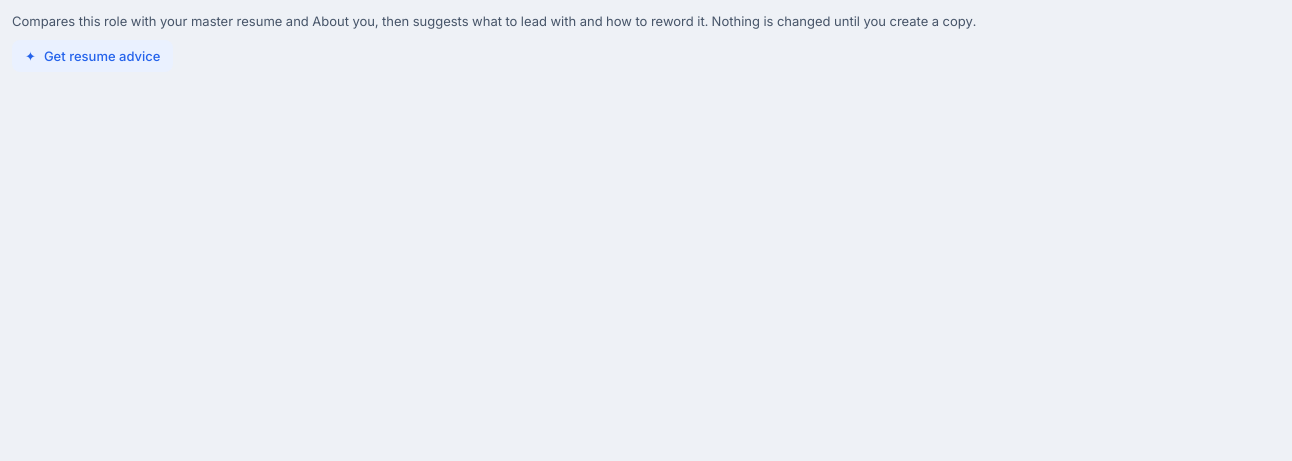
it: JobAdvice › offers a plain copy when nothing is ticked
This screenshot has width=1292, height=461.
Click the button "✦ Get resume advice".
click(93, 56)  # box [12,40,174,72]
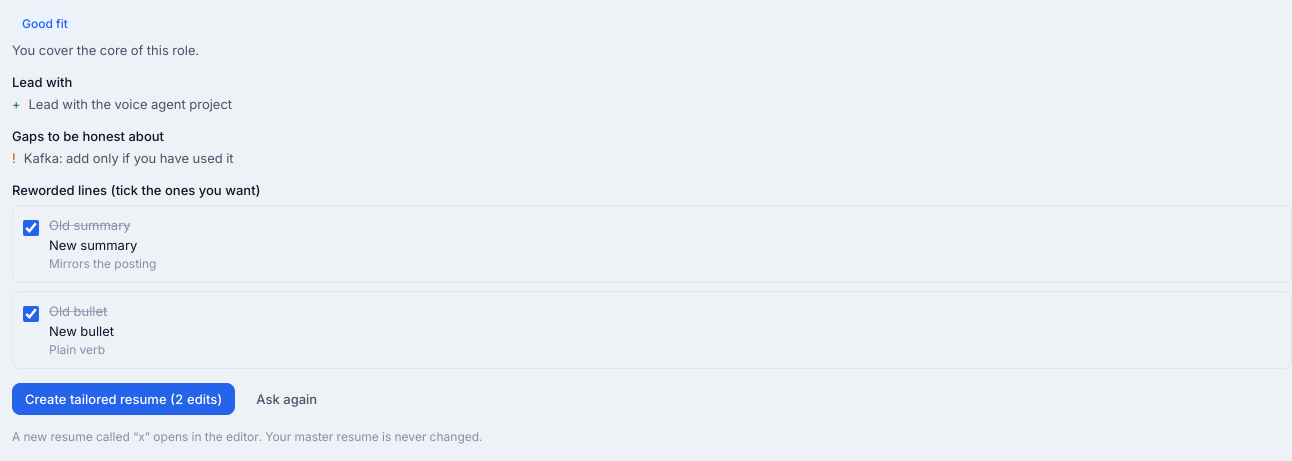
Click the checkbox labelled "Old summary New summary Mirrors the posting".
click(31, 228)  # box [23,220,39,236]
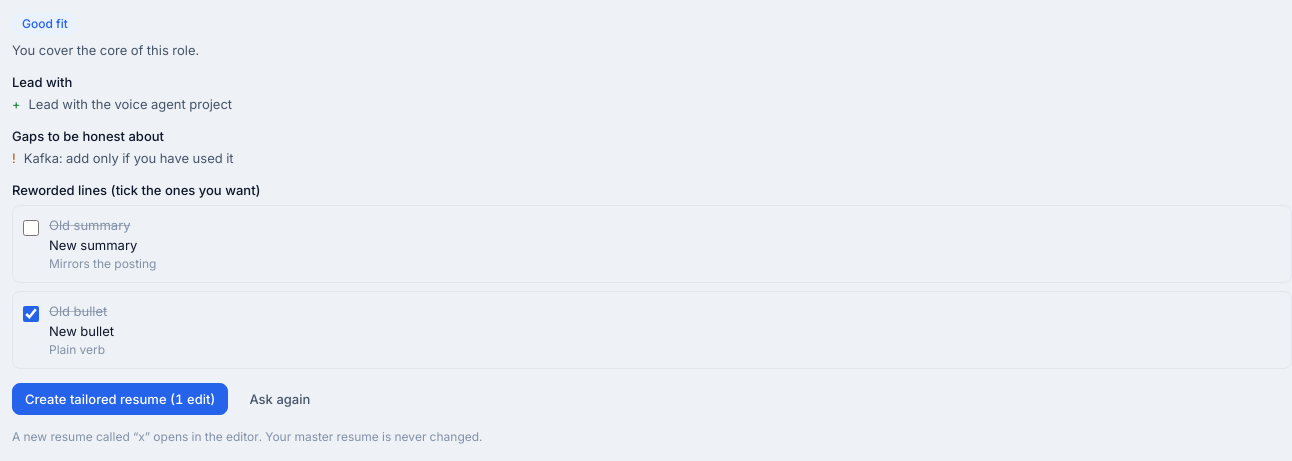
Click the checkbox labelled "Old bullet New bullet Plain verb".
click(31, 314)  # box [23,306,39,322]
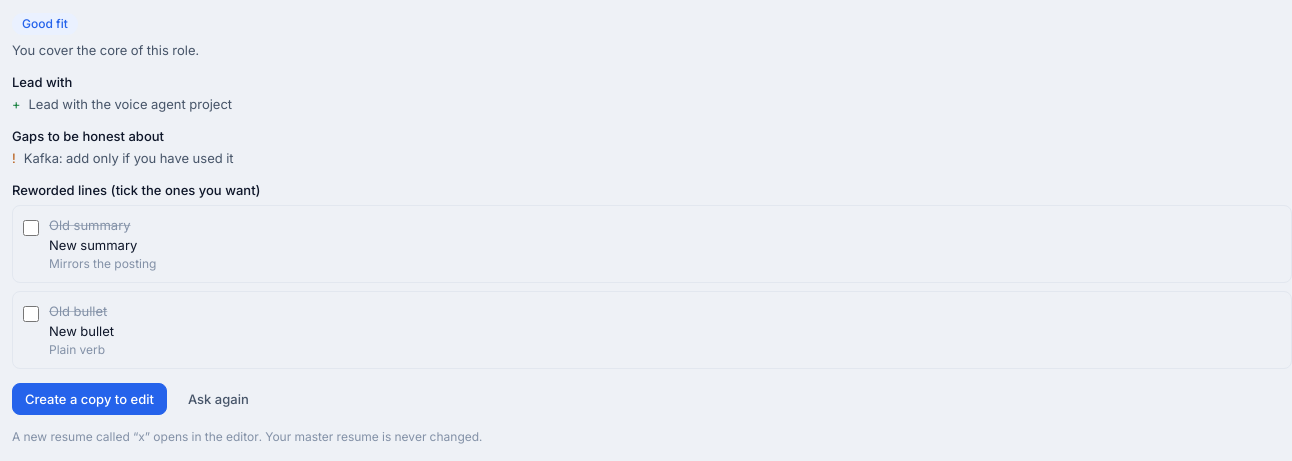
Check: the button "Create a copy to edit" is shown, box [12,383,167,415]
